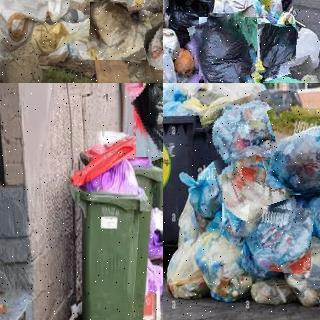Garbage: (218, 153, 297, 234), (202, 94, 285, 171), (193, 13, 262, 83), (243, 206, 313, 273), (194, 226, 255, 300), (268, 115, 320, 199), (88, 0, 148, 62), (175, 160, 231, 226), (163, 236, 210, 296), (130, 83, 163, 159), (163, 0, 224, 38), (256, 23, 298, 78), (288, 235, 320, 306), (178, 83, 268, 106), (241, 60, 320, 83), (299, 180, 320, 261), (225, 0, 265, 37), (292, 25, 320, 75), (141, 19, 163, 78), (126, 0, 163, 31), (163, 22, 182, 60), (163, 55, 184, 83), (257, 0, 273, 12)
